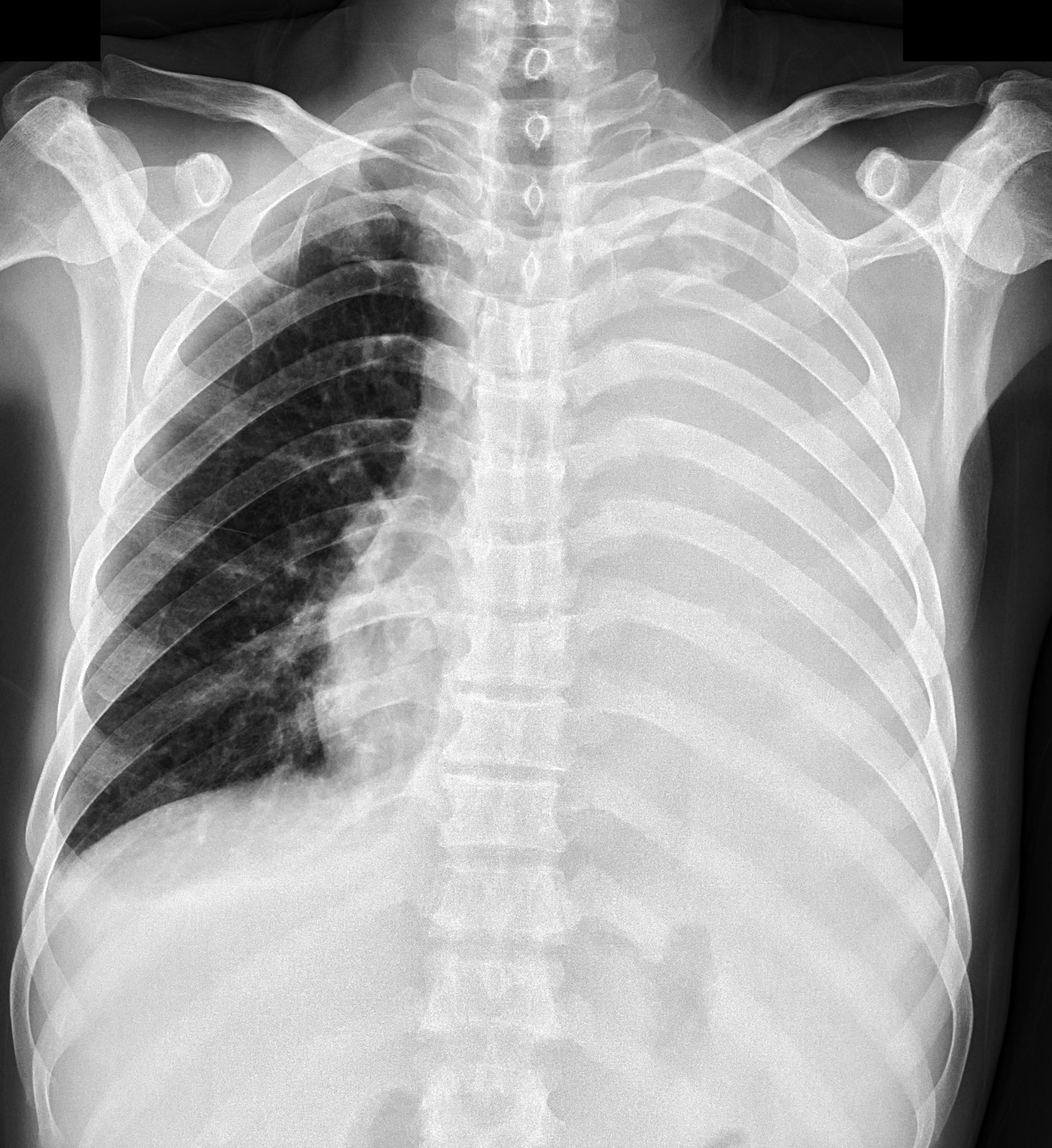Pleural thickening: (44, 801, 69, 898)
